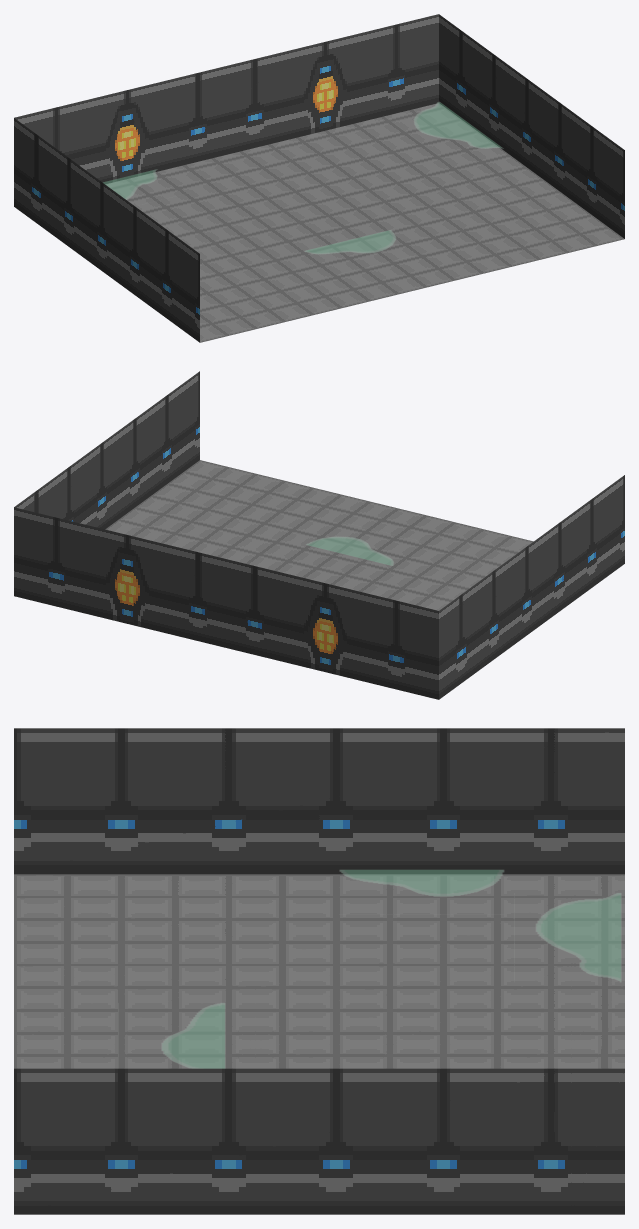
Rendered from GALHQ12-1.obj.
3 renders of one model, top to bottom at view 1: azimuth 30°, elevation 25°; view 2: azimuth 150°, elevation 25°; view 3: azimuth 270°, elevation 25°, orthographic. The views are drawn at different scales.
Parts seen in each view (by area): view 1: m_dun2607_00_00c; view 2: m_dun2607_00_00c; view 3: m_dun2607_00_00c.
Boxes of the visible parts, x1,y1,x2,y2 form: m_dun2607_00_00c: (14,14,624,342); m_dun2607_00_00c: (14,371,624,699); m_dun2607_00_00c: (14,728,624,1214).
Size of the model in its own units: 240 by 48 by 182.
5 materials, 5 textured.
